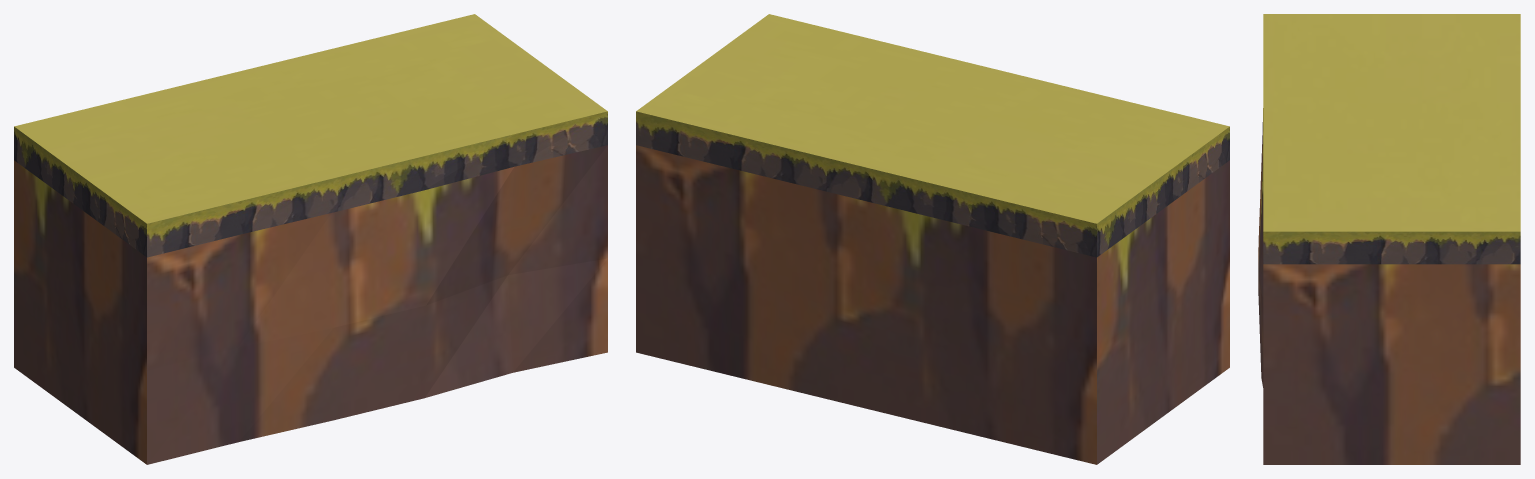
The model's file is SM_RC_Terrain_Cliff_8x4.gltf.
The picture shows the model from 3 angles, left to right: view 1: azimuth 30°, elevation 25°; view 2: azimuth 150°, elevation 25°; view 3: azimuth 270°, elevation 25°; orthographic projection. The views are drawn at different scales.
Parts seen in each view (by area): view 1: SM_RC_Terrain_Cliff_8x4; view 2: SM_RC_Terrain_Cliff_8x4; view 3: SM_RC_Terrain_Cliff_8x4.
Boxes of the visible parts, x1,y1,x2,y2 form: SM_RC_Terrain_Cliff_8x4: (14,14,607,464); SM_RC_Terrain_Cliff_8x4: (636,14,1229,464); SM_RC_Terrain_Cliff_8x4: (1258,14,1520,464).
Size of the model in its own units: 8 by 4 by 4.08.
Materials: 1 (1 with a texture image).
